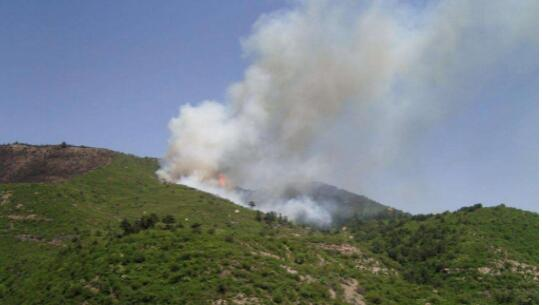yanwu: (156, 1, 538, 225)
